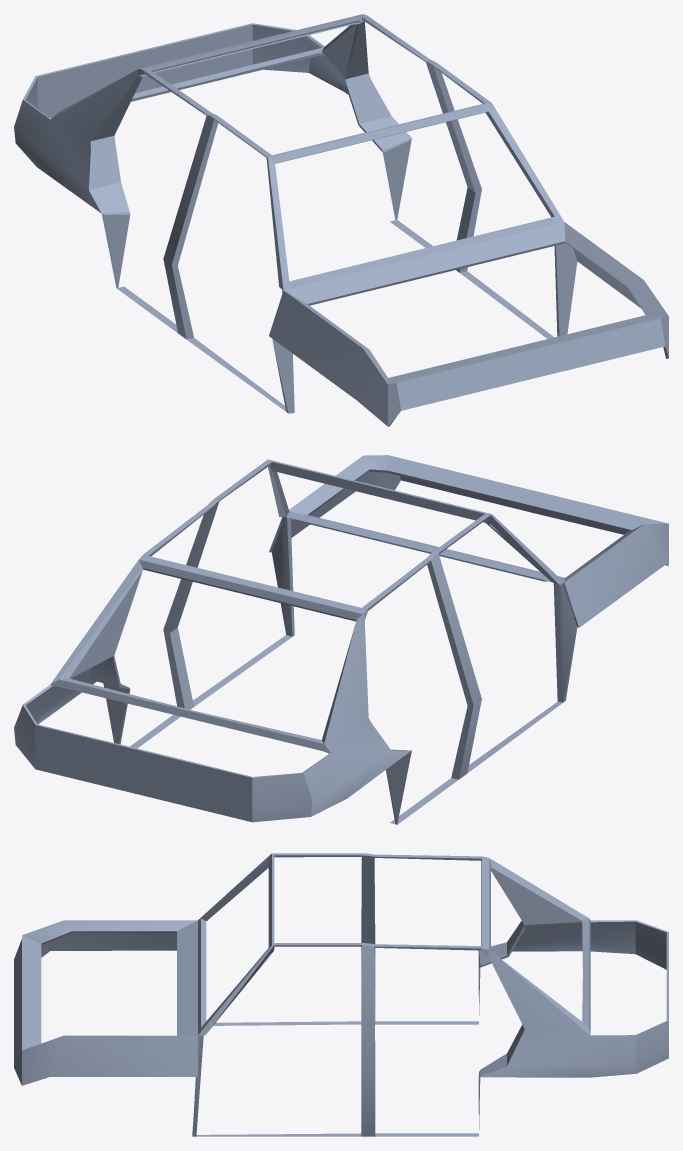
File: carcas.fbx
The picture shows the model from 3 angles, top to bottom: view 1: azimuth 30°, elevation 25°; view 2: azimuth 150°, elevation 25°; view 3: azimuth 270°, elevation 25°; orthographic projection. The views are drawn at different scales.
Parts seen in each view (by area): view 1: Carcas; view 2: Carcas; view 3: Carcas.
Part boxes in pixels (x1=…): Carcas: x1=14, y1=14, x2=668, y2=426; Carcas: x1=14, y1=455, x2=668, y2=824; Carcas: x1=14, y1=853, x2=668, y2=1136.
Size of the model in its own units: 2.43 by 1.61 by 5.28.
